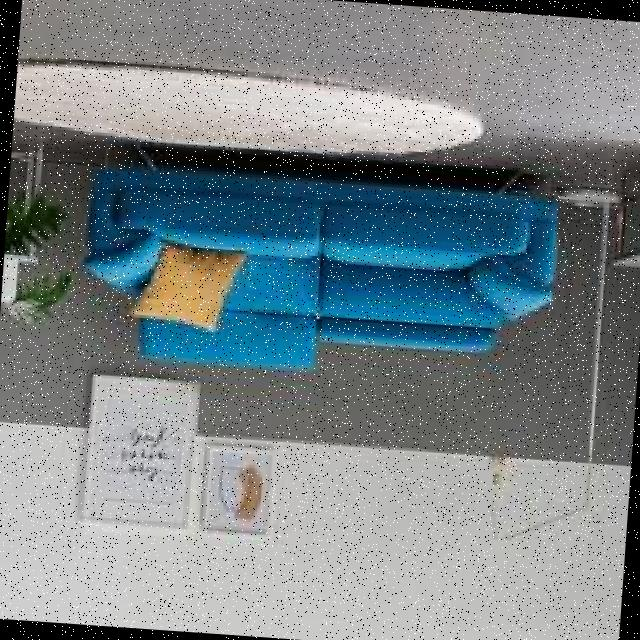Sofa: (62, 108, 584, 402)
